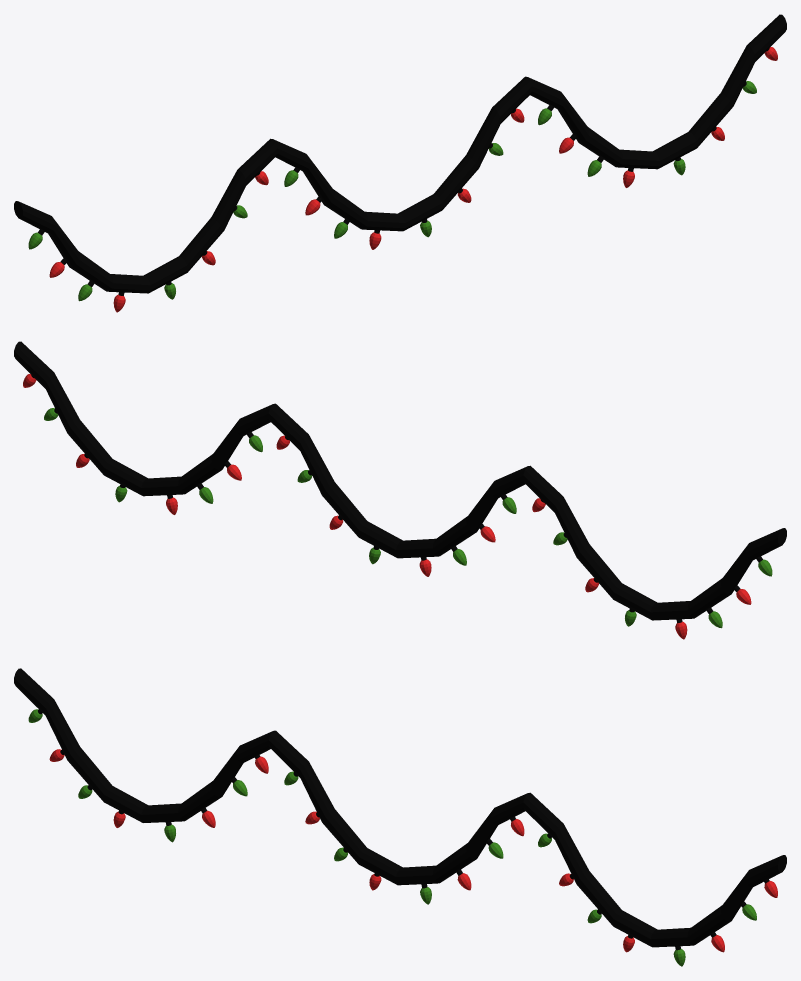
File: ChristmasLights.fbx
The picture shows the model from 3 angles, top to bottom: view 1: azimuth 30°, elevation 25°; view 2: azimuth 150°, elevation 25°; view 3: azimuth 330°, elevation 25°; orthographic projection.
Visible parts, largest first — view 1: RedLight12; view 2: RedLight12; view 3: RedLight12.
Boxes of the visible parts, x1=… form: RedLight12: x1=14, y1=14, x2=786, y2=312; RedLight12: x1=14, y1=341, x2=786, y2=639; RedLight12: x1=14, y1=668, x2=786, y2=966.
Size of the model in its own units: 10.66 by 1.81 by 0.2157.
1 material, 1 textured.
